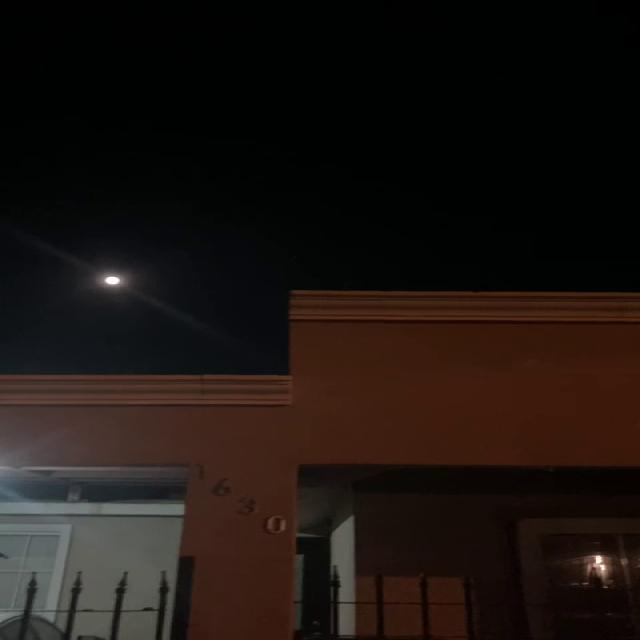moon: (90, 267, 140, 300)
